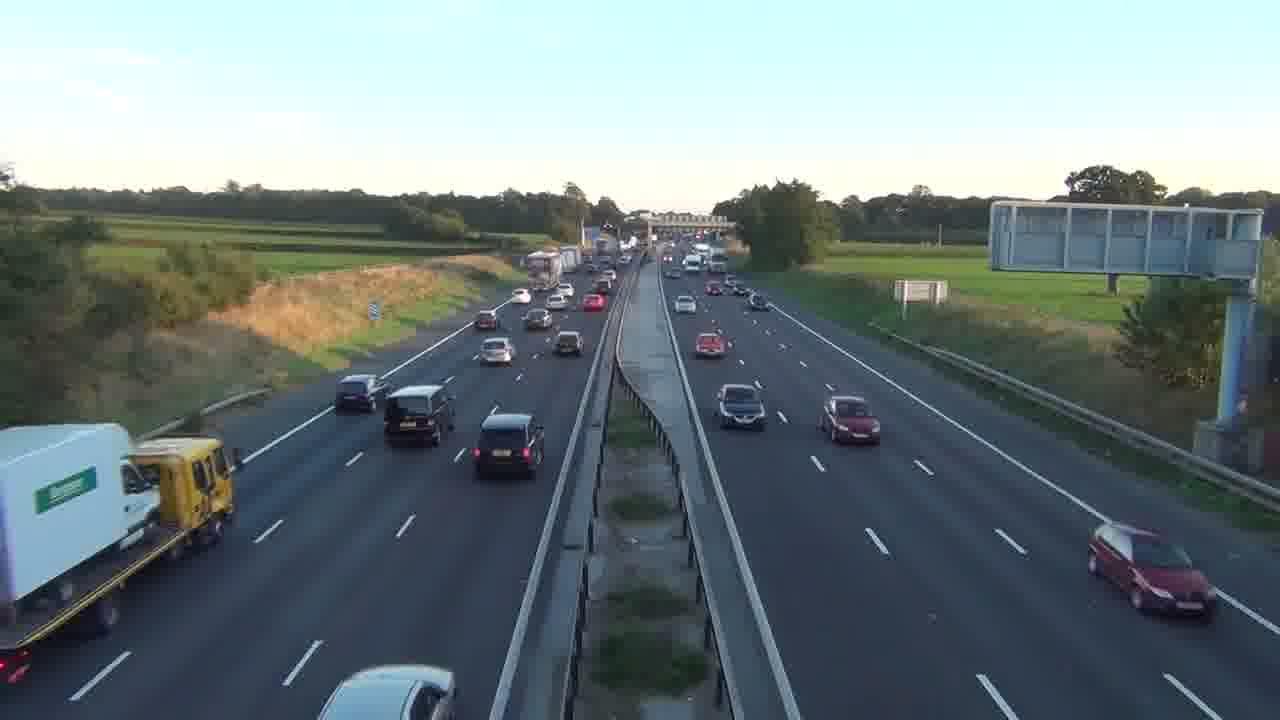car: (1086, 521, 1216, 620), (822, 396, 881, 446), (715, 383, 767, 430), (478, 335, 515, 366), (694, 333, 727, 359), (553, 330, 583, 357), (674, 293, 698, 313)
truck: (0, 421, 162, 625), (128, 435, 238, 551), (384, 382, 455, 447), (334, 374, 376, 414)
